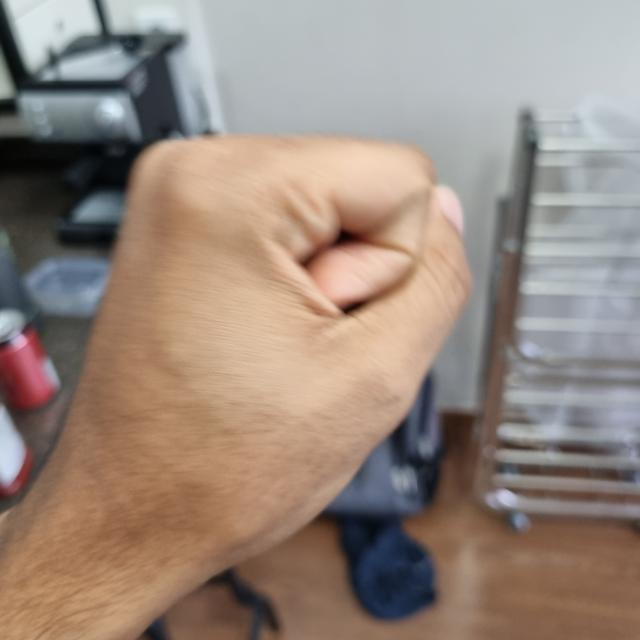Rock: (43, 127, 470, 573)
